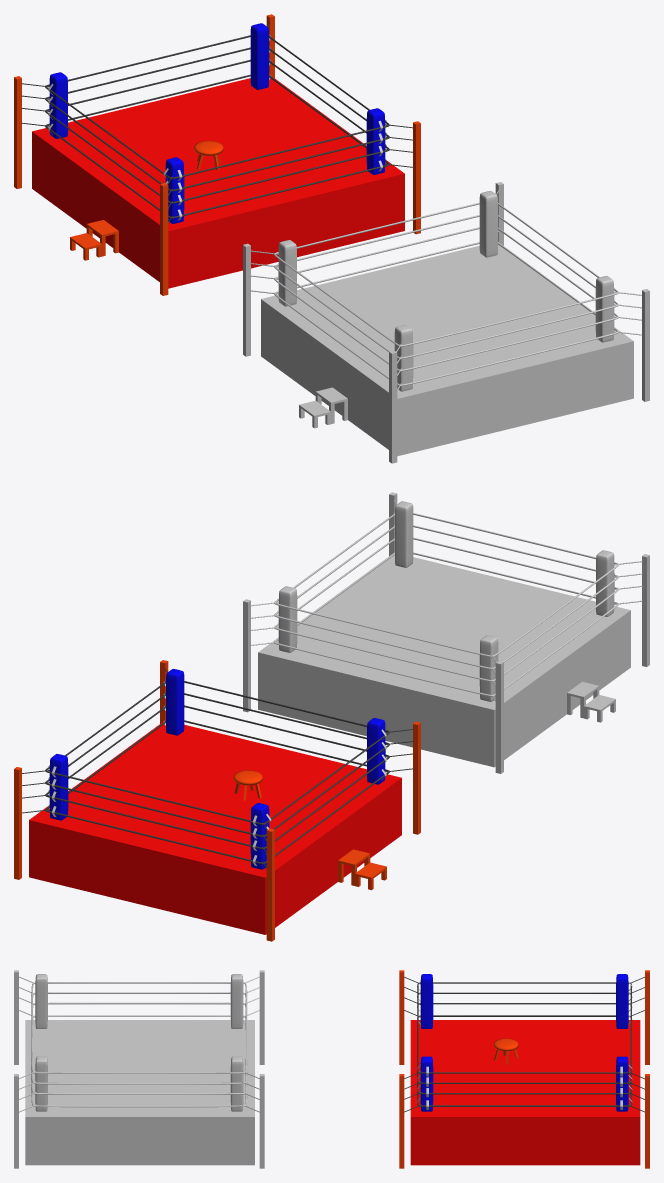
The model's file is boxing ring.obj.
3 views of the same model, one above another, from view 1: azimuth 30°, elevation 25°; view 2: azimuth 150°, elevation 25°; view 3: azimuth 270°, elevation 25° (orthographic). The views are drawn at different scales.
Visible parts, largest first — view 1: Cube.065_Mesh.075, Cube.047_Mesh.047, Cube.034_Mesh.079, Cube.021_Mesh.021, Cube.003_Mesh.003, Cube.002_Mesh.002, Cube.004_Mesh.004, Cube.001_Mesh.001; view 2: Cube.065_Mesh.075, Cube.047_Mesh.047, Cube.034_Mesh.079, Cube.021_Mesh.021, Cube.002_Mesh.002, Cube.003_Mesh.003, Cube.001_Mesh.001, Cube.004_Mesh.004; view 3: Cube.065_Mesh.075, Cube.047_Mesh.047, Cube.034_Mesh.079, Cube.021_Mesh.021, Cube.001_Mesh.001, Cube.004_Mesh.004, Cube.002_Mesh.002, Cube.003_Mesh.003, boxing_ring.005, Cube.005_Cube.016.
Part boxes in pixels (x1=…): Cube.065_Mesh.075: x1=243, y1=182, x2=649, y2=463; Cube.047_Mesh.047: x1=32, y1=74, x2=404, y2=288; Cube.034_Mesh.079: x1=21, y1=23, x2=412, y2=222; Cube.021_Mesh.021: x1=14, y1=14, x2=420, y2=295; Cube.003_Mesh.003: x1=250, y1=23, x2=268, y2=89; Cube.002_Mesh.002: x1=366, y1=108, x2=385, y2=174; Cube.004_Mesh.004: x1=49, y1=72, x2=67, y2=138; Cube.001_Mesh.001: x1=165, y1=157, x2=184, y2=223; Cube.065_Mesh.075: x1=243, y1=492, x2=649, y2=773; Cube.047_Mesh.047: x1=29, y1=720, x2=401, y2=934; Cube.034_Mesh.079: x1=22, y1=668, x2=413, y2=868; Cube.021_Mesh.021: x1=14, y1=660, x2=420, y2=941; Cube.002_Mesh.002: x1=166, y1=669, x2=184, y2=735; Cube.003_Mesh.003: x1=49, y1=754, x2=68, y2=820; Cube.001_Mesh.001: x1=367, y1=718, x2=385, y2=784; Cube.004_Mesh.004: x1=250, y1=803, x2=269, y2=869; Cube.065_Mesh.075: x1=14, y1=970, x2=264, y2=1168; Cube.047_Mesh.047: x1=410, y1=1020, x2=640, y2=1165; Cube.034_Mesh.079: x1=404, y1=977, x2=645, y2=1112; Cube.021_Mesh.021: x1=399, y1=970, x2=649, y2=1168; Cube.001_Mesh.001: x1=420, y1=974, x2=433, y2=1028; Cube.004_Mesh.004: x1=616, y1=974, x2=628, y2=1028; Cube.002_Mesh.002: x1=420, y1=1056, x2=433, y2=1111; Cube.003_Mesh.003: x1=616, y1=1056, x2=628, y2=1111; boxing_ring.005: x1=417, y1=982, x2=632, y2=1109; Cube.005_Cube.016: x1=494, y1=1038, x2=518, y2=1064.
Bounding box in the file's own units: 156 × 62.71 × 366.
